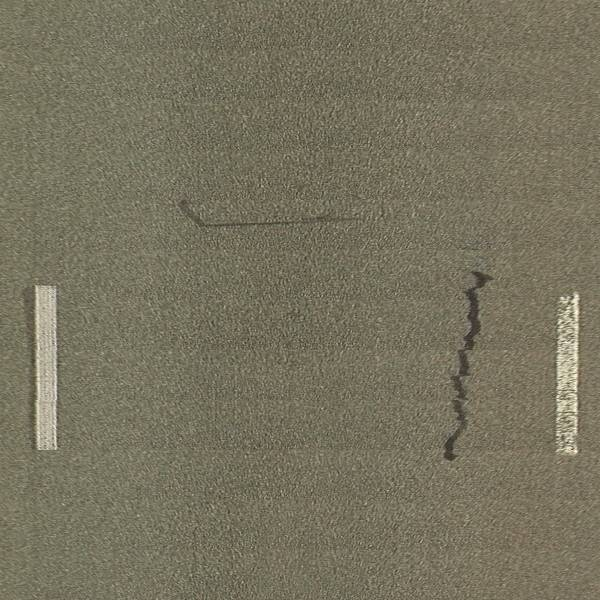road_damage: (439, 269, 497, 464), (175, 201, 361, 231)
